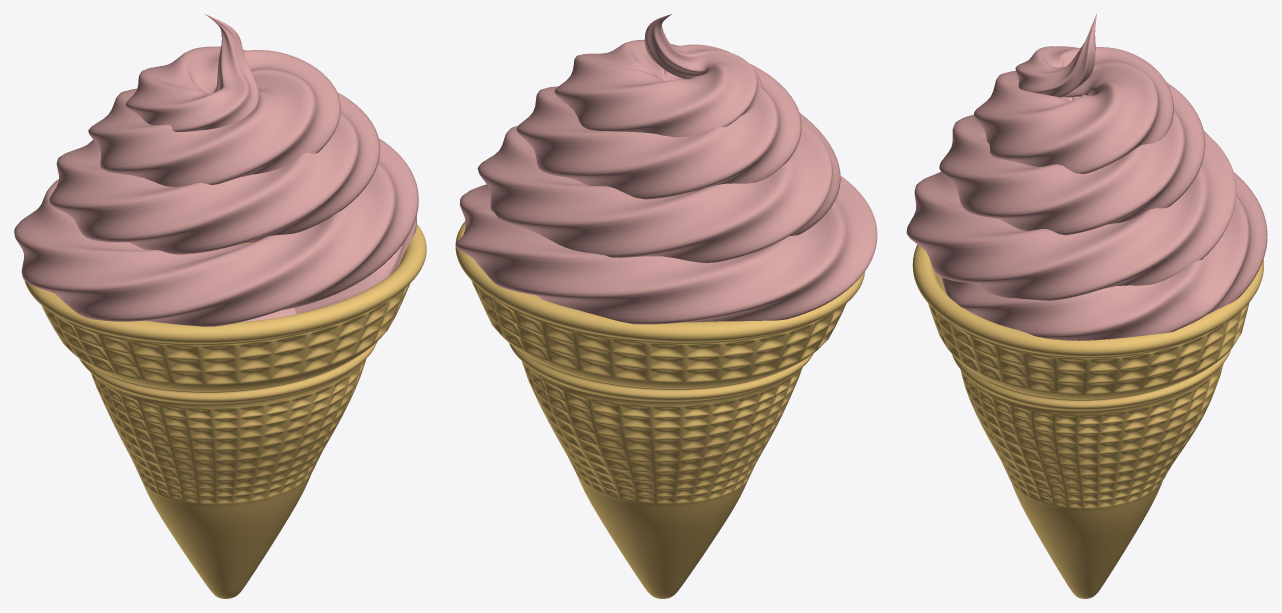
The model's file is HELADO.glb.
The picture shows the model from 3 angles, left to right: view 1: azimuth 30°, elevation 25°; view 2: azimuth 150°, elevation 25°; view 3: azimuth 270°, elevation 25°; orthographic projection. The views are drawn at different scales.
Visible parts, largest first — view 1: Circle, Cylinder.068; view 2: Circle, Cylinder.068; view 3: Circle, Cylinder.068.
Part boxes in pixels (x1,y1,x2,y2): Circle: (14,14,418,326); Cylinder.068: (24,224,426,598); Circle: (455,14,877,324); Cylinder.068: (455,221,864,598); Circle: (906,14,1267,340); Cylinder.068: (912,244,1263,598).
Bounding box in the file's own units: 0.7213 × 1.07 × 0.6082.
